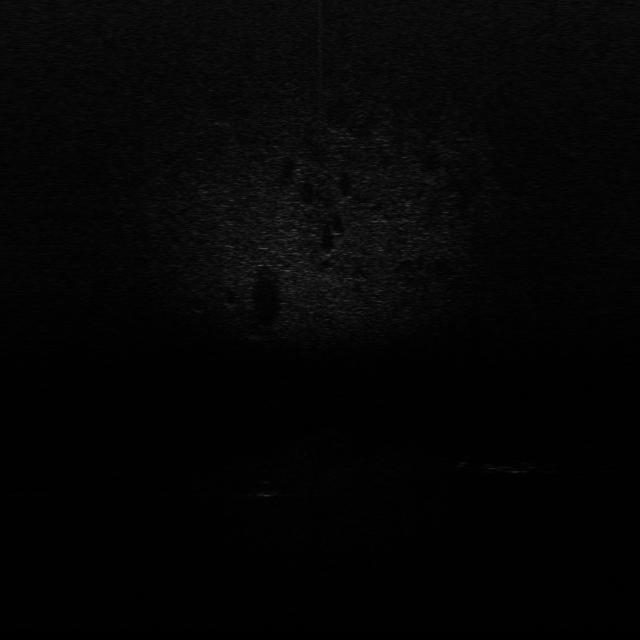ball: (253, 476, 283, 500)
human body: (454, 452, 572, 478)
